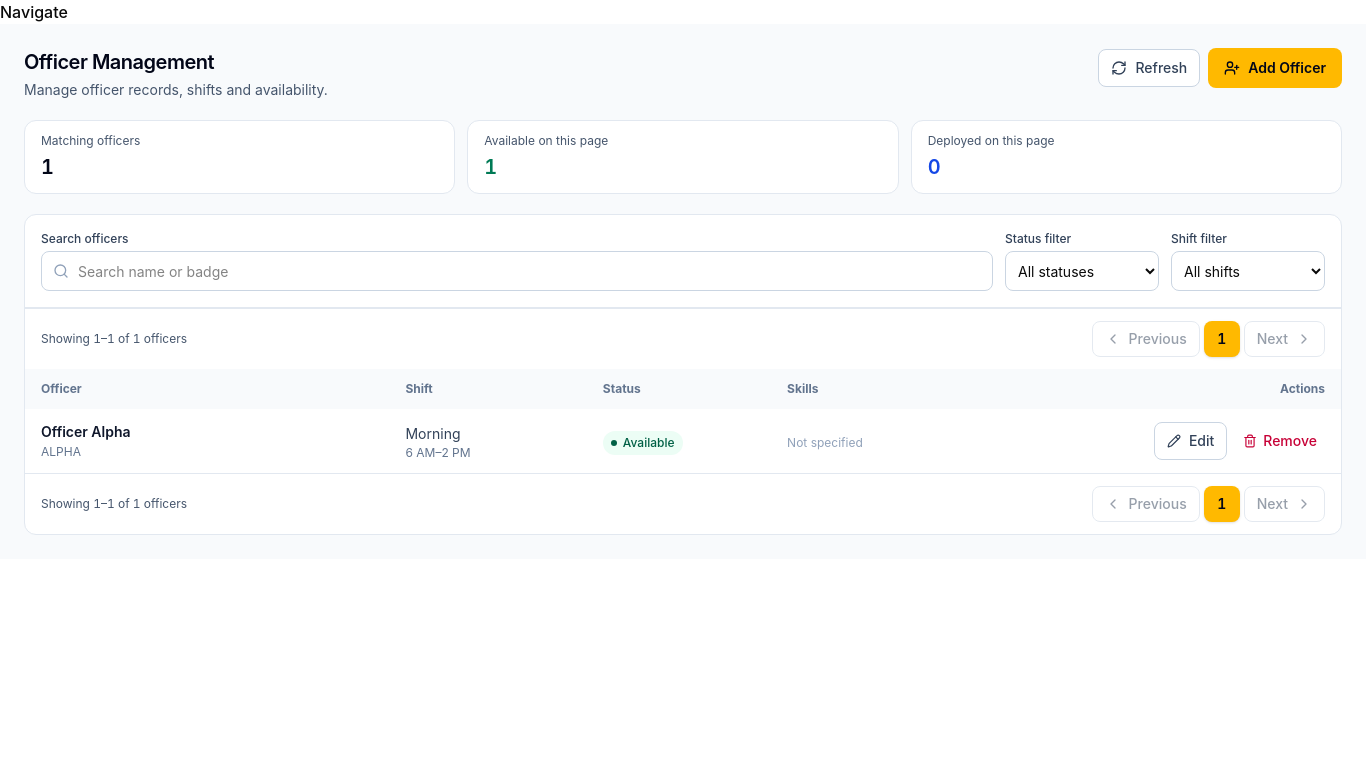
Scenario: does not leave a successfully created officer ready to submit again when roster refresh fails
Expected: the text "Officer Alpha" is shown, x1=41 y1=423 x2=130 y2=440
Click the button "Add Officer" at (1275, 68), box x1=1208 y1=48 x2=1342 y2=88
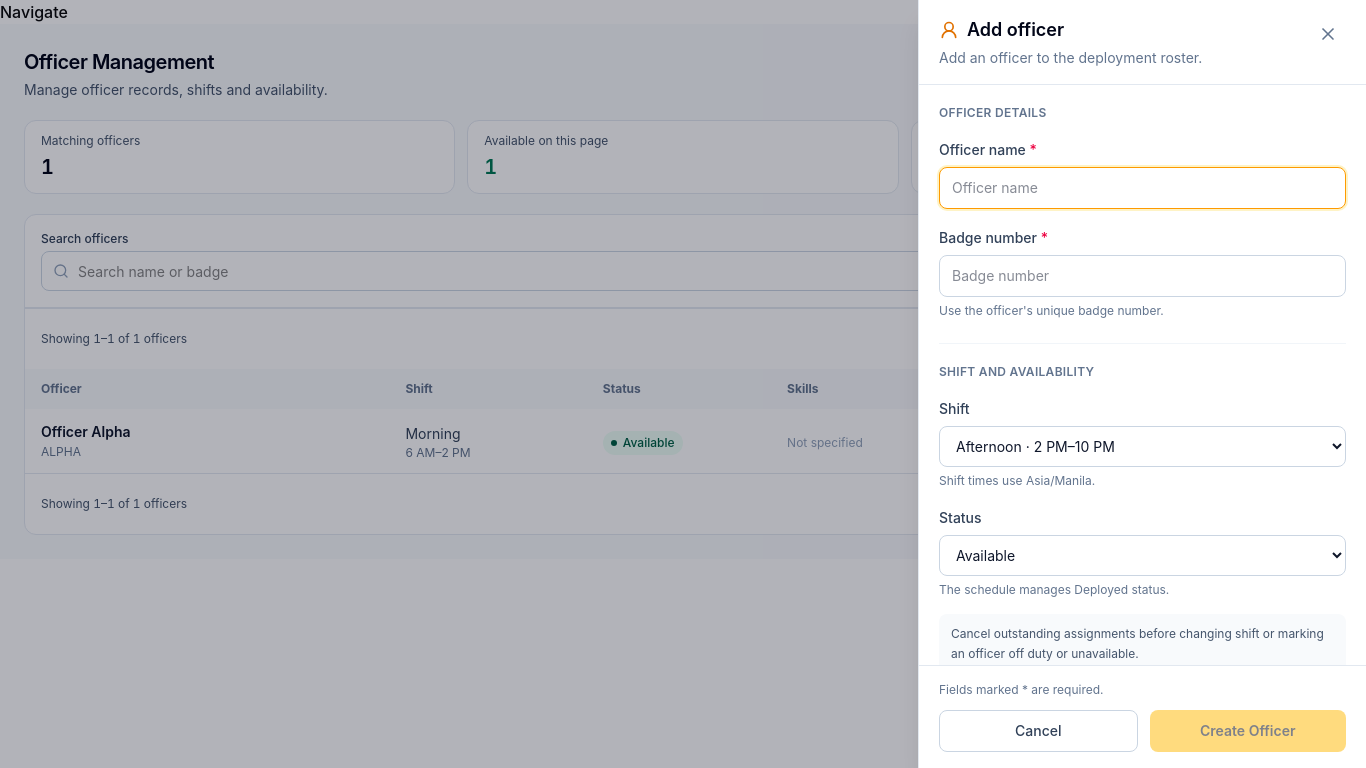
Type "New officer" into the field labelled "Officer name *" at (1142, 188), box x1=939 y1=167 x2=1346 y2=209
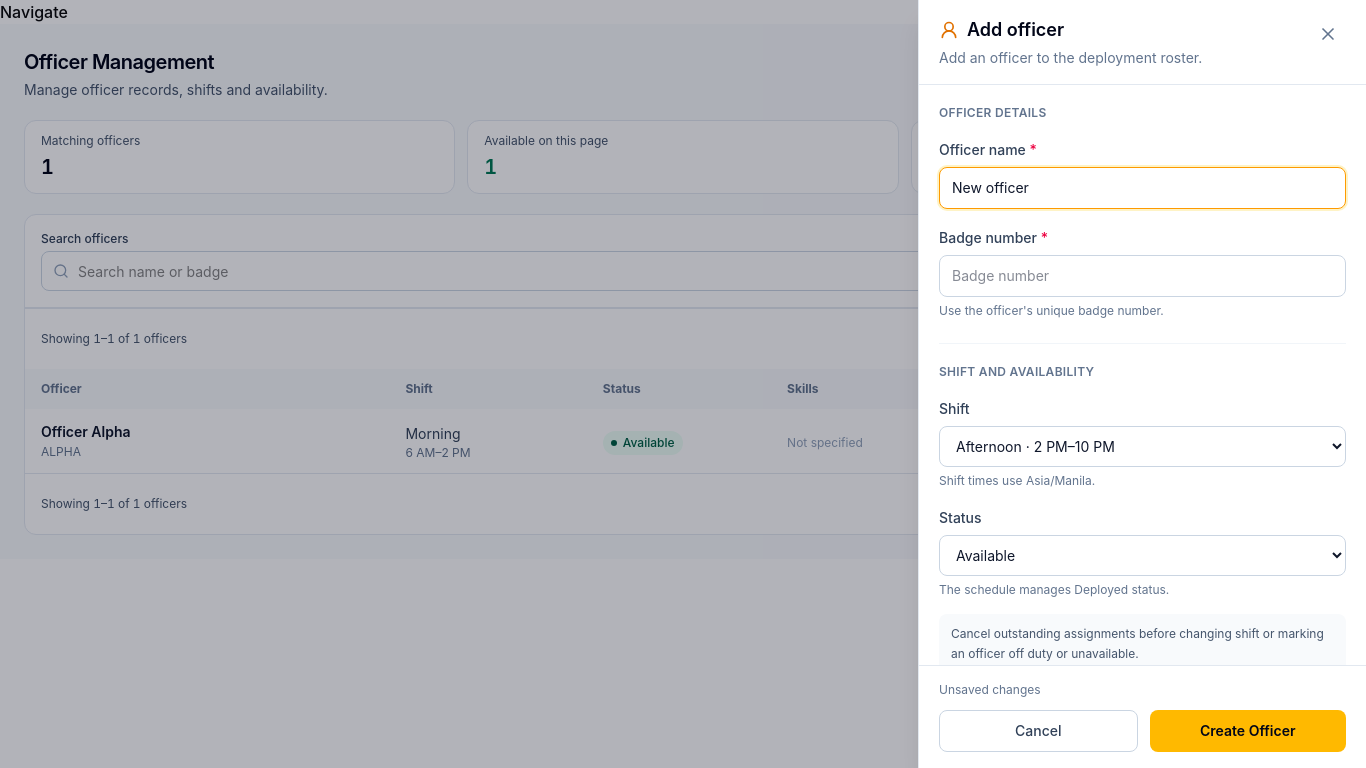
Type "NEW" into the field labelled "Badge number *" at (1142, 276), box x1=939 y1=255 x2=1346 y2=297
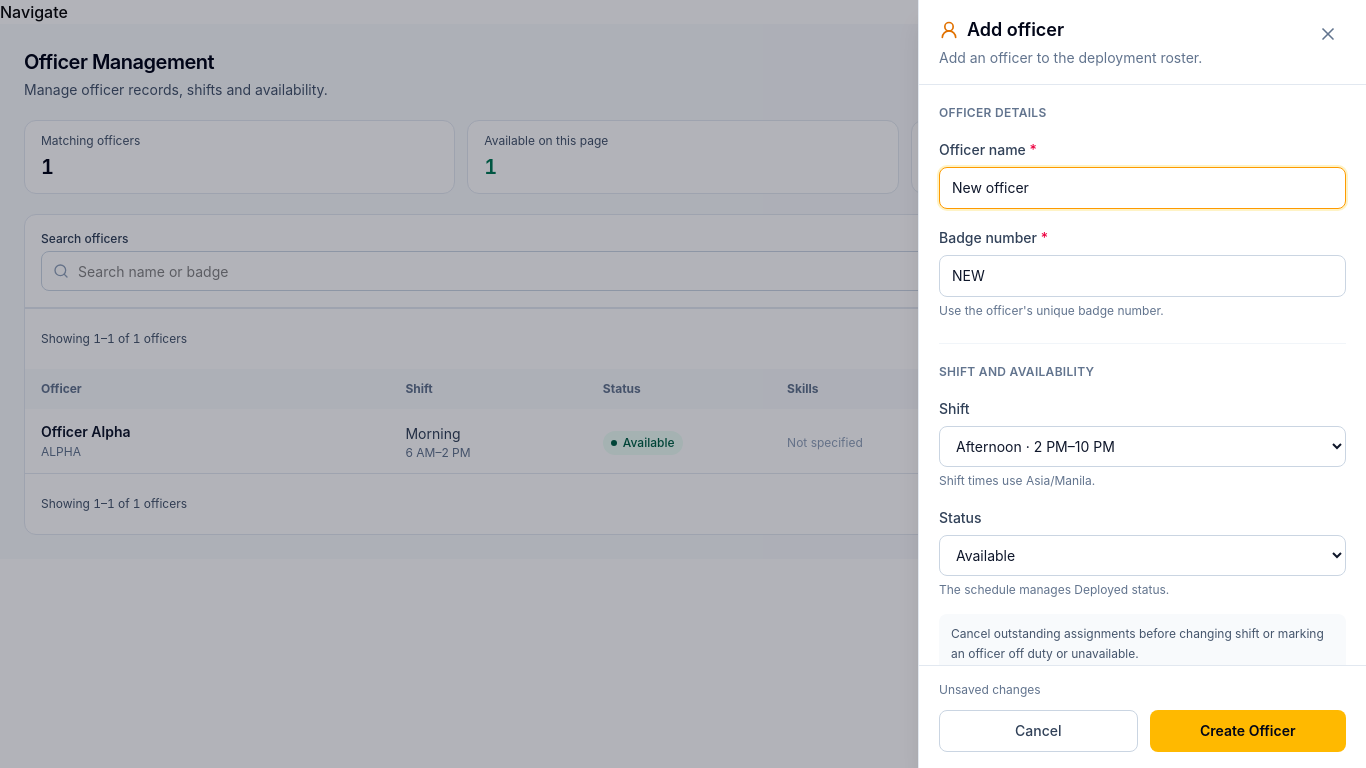
Click the button "Create Officer" at (1248, 731), box x1=1150 y1=710 x2=1346 y2=752
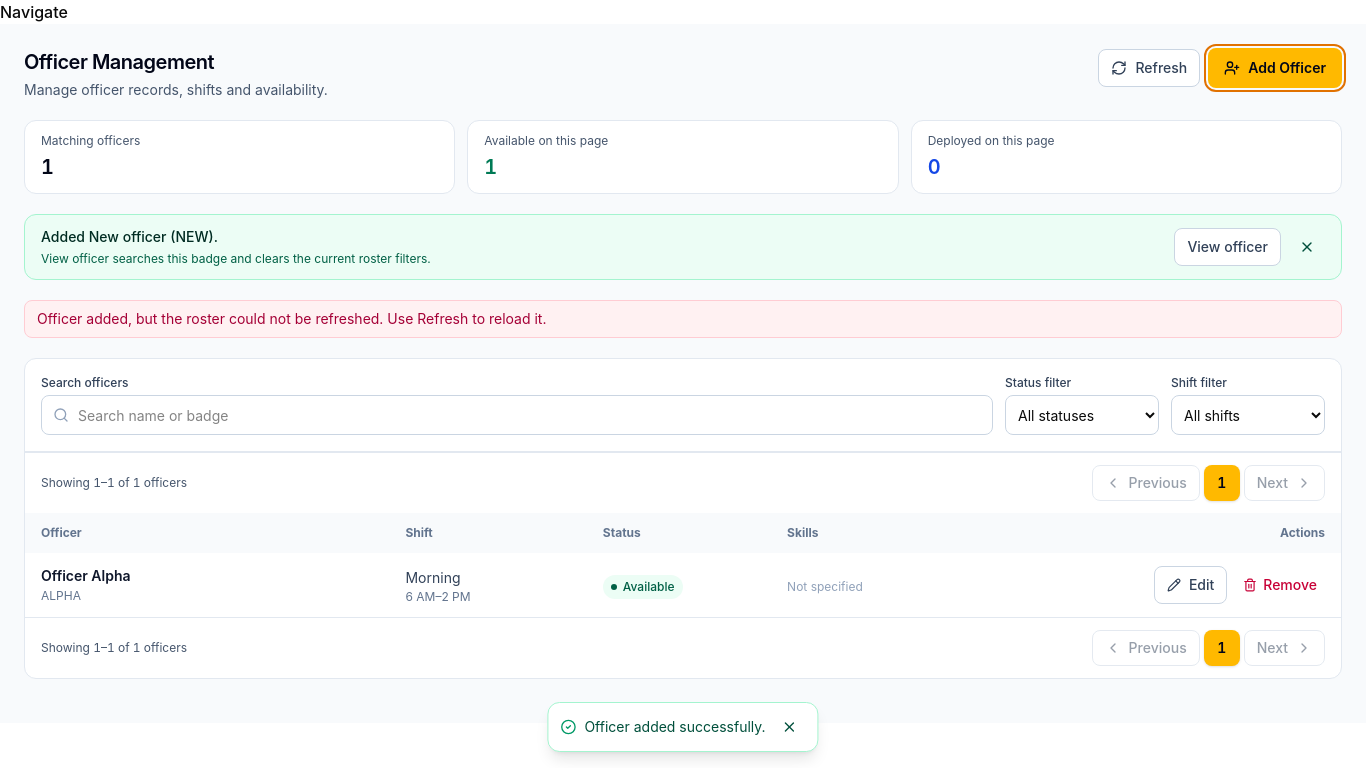
Expected: the button "Add Officer" is enabled, x1=1208 y1=48 x2=1342 y2=88
Expected: the 1st message shows "Officer added, but the roster could not be refreshed", x1=37 y1=310 x2=546 y2=327
Expected: the label labelled "Officer name" is gone
